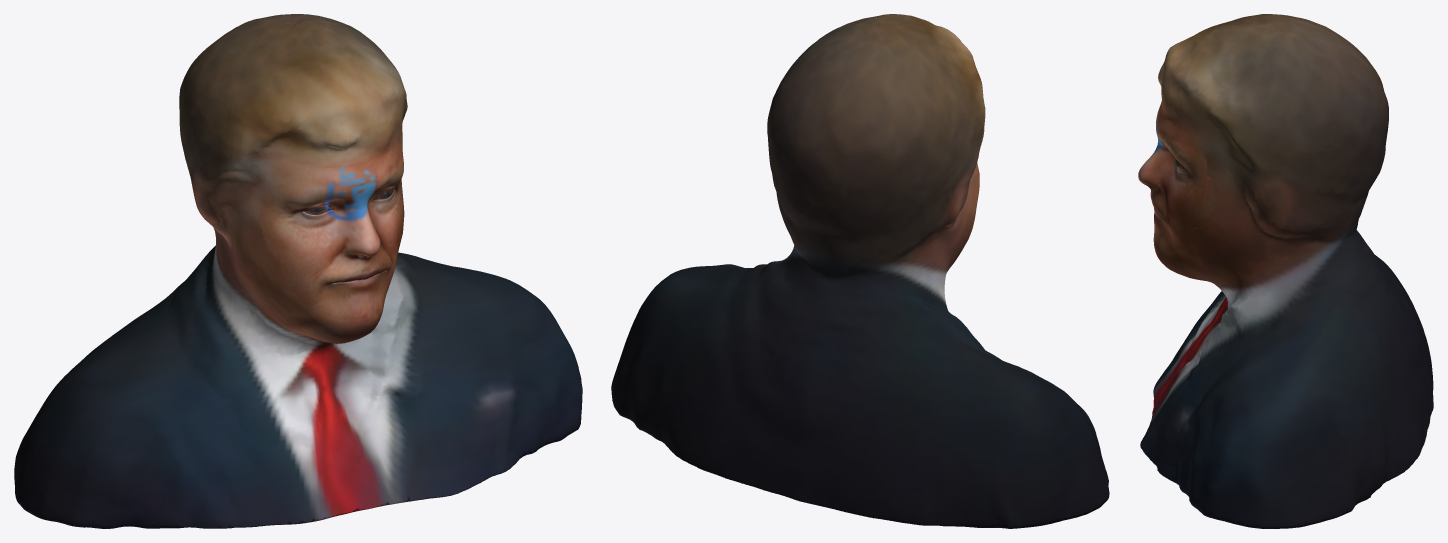
Rendered from head_mesh.fbx.
3 views of the same model, side by side, from view 1: azimuth 30°, elevation 25°; view 2: azimuth 150°, elevation 25°; view 3: azimuth 270°, elevation 25° (orthographic). The views are drawn at different scales.
Visible parts, largest first — view 1: Head; view 2: Head; view 3: Head.
Part boxes in pixels (<box>): Head: <box>14,14,582,528</box>; Head: <box>611,14,1109,528</box>; Head: <box>1138,14,1433,528</box>.
Bounding box in the file's own units: 0.4983 × 0.3948 × 0.2712.
